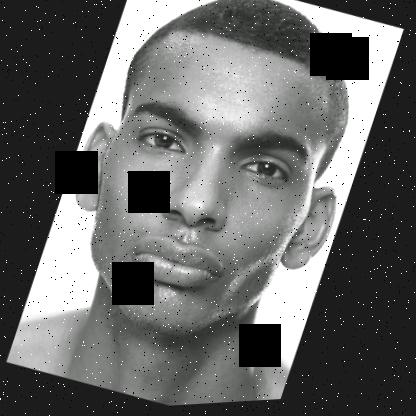Male: (37, 1, 381, 378)
